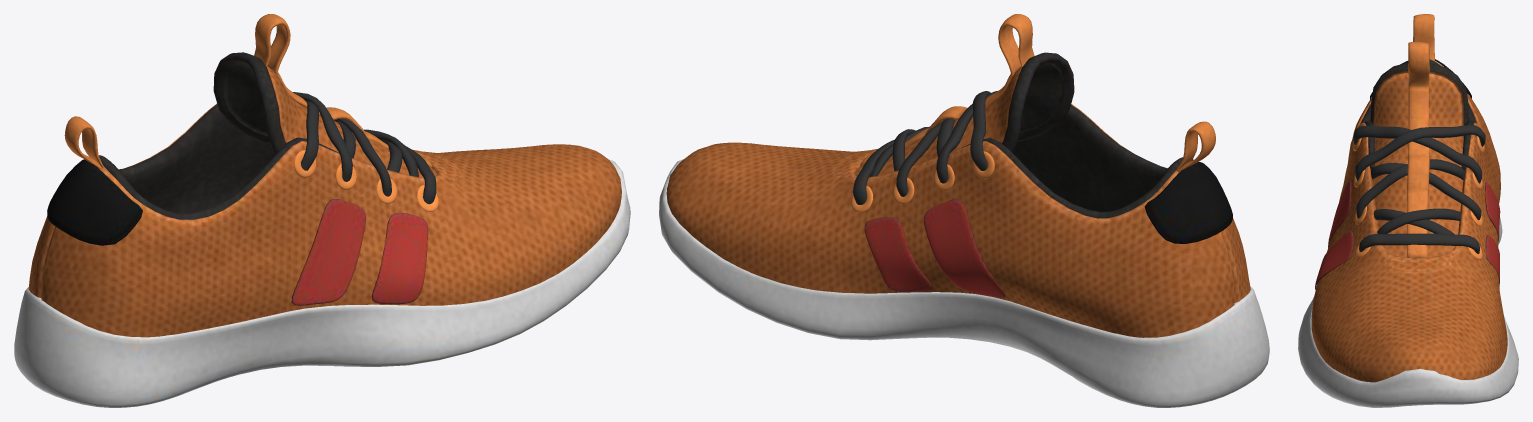
Rendered from shoe-sunset.glb.
The picture shows the model from 3 angles, left to right: view 1: azimuth 30°, elevation 25°; view 2: azimuth 150°, elevation 25°; view 3: azimuth 270°, elevation 25°; orthographic projection. The views are drawn at different scales.
Visible parts, largest first — view 1: Shoe; view 2: Shoe; view 3: Shoe.
Boxes of the visible parts, <box> form: Shoe: <box>14,14,630,407</box>; Shoe: <box>659,14,1269,407</box>; Shoe: <box>1298,14,1518,407</box>.
Bounding box in the file's own units: 0.2979 × 0.1531 × 0.1158.
1 material, 1 textured.
